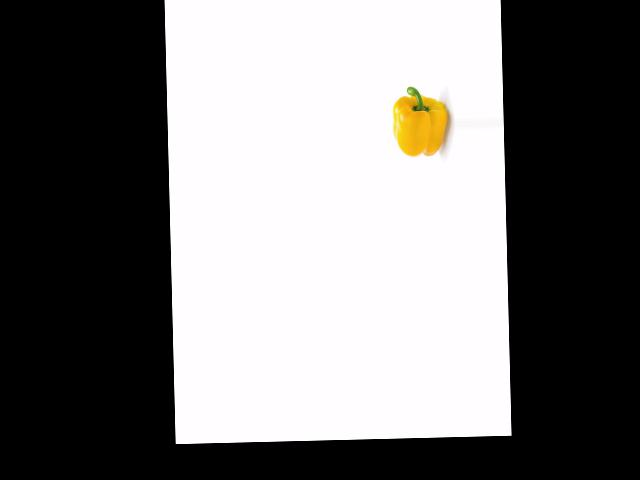bell_pepper: (389, 79, 448, 159)
